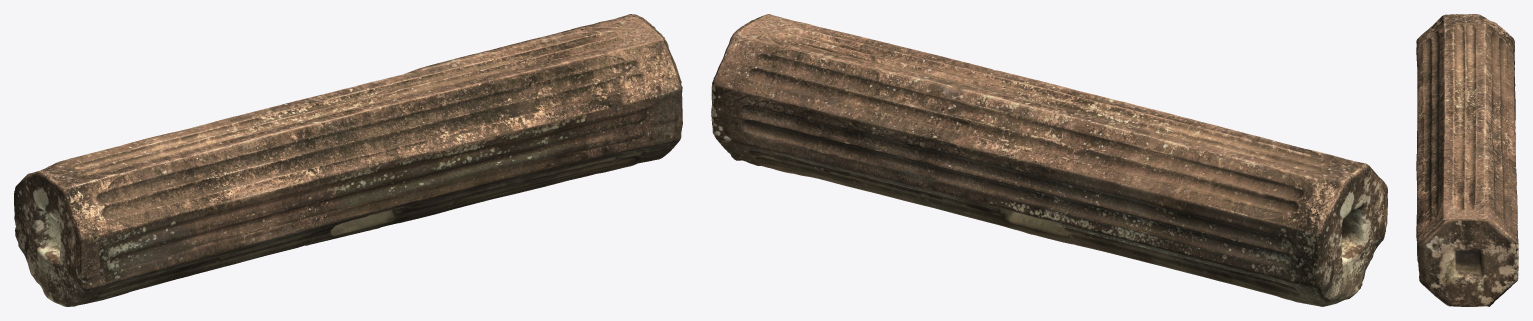
Rendered from 28_MysonSanctuaryB_Trucot_final.glb.
3 renders of one model, left to right at view 1: azimuth 30°, elevation 25°; view 2: azimuth 150°, elevation 25°; view 3: azimuth 270°, elevation 25°, orthographic. The views are drawn at different scales.
Bounding box in the file's own units: 2.42 × 0.5057 × 0.4976.
1 material, 1 textured.
